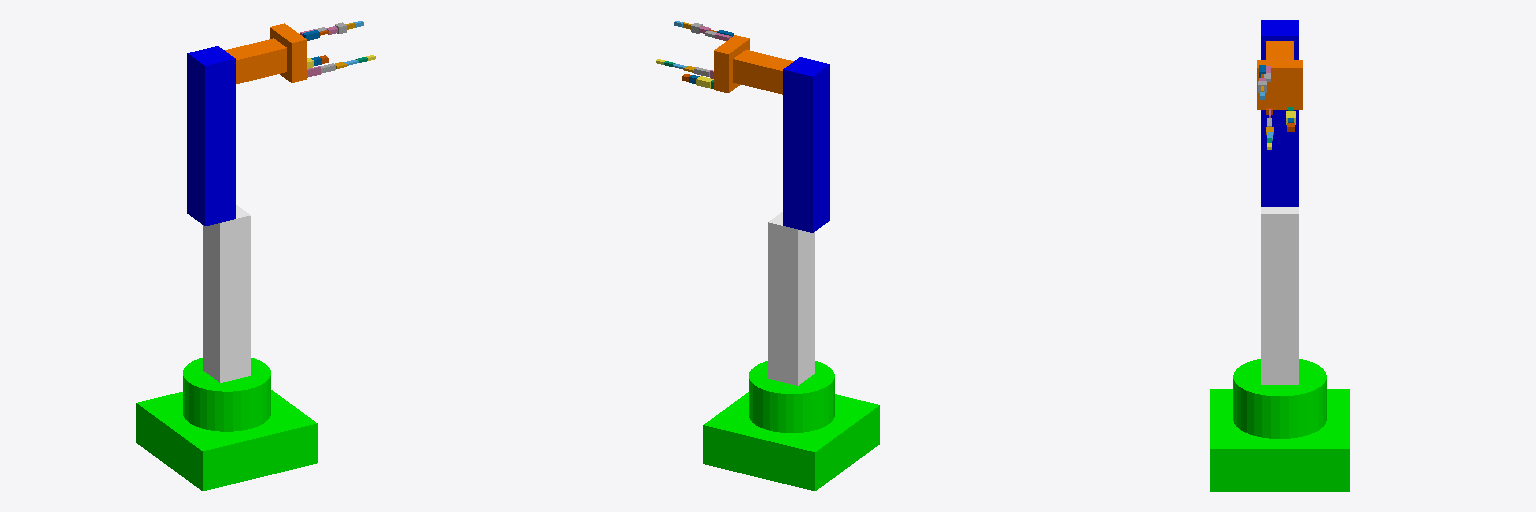
URDF robot description (robot):
<?xml version='1.0' encoding='utf-8'?>
<robot name="robot">
  <link name="base_link">
    <visual>
      <origin xyz="0 0 0.125" rpy="0 0 0" />
      <geometry>
        <box size="0.75 0.75 0.25" />
      </geometry>
      <material name="green" />
    </visual>
    <visual>
      <origin xyz="0 0 0.375" rpy="0 0 0" />
      <geometry>
        <cylinder length="0.25" radius="0.25" />
      </geometry>
      <material name="green">
        <color rgba="0 1 0 1" />
      </material>
    </visual>
    <collision>
      <geometry>
        <box size="0.75 0.75 0.5" />
      </geometry>
    </collision>
    <inertial>
      <mass value="0.5" />
      <inertia ixx="0.034" ixy="0.0" ixz="0.0" iyy="0.034" iyz="0.0" izz="0.034" />
    </inertial>
  </link>
  <link name="support_link">
    <visual>
      <origin xyz="0 0 0.5" rpy="0 0 0" />
      <geometry>
        <box size="0.2 0.2 1" />
      </geometry>
      <material name="white">
        <color rgba="1 1 1 1" />
      </material>
    </visual>
    <collision>
      <geometry>
        <box size="0.2 0.2 1" />
      </geometry>
    </collision>
    <inertial>
      <mass value="0.1" />
      <inertia ixx="0.01" ixy="0.0" ixz="0.0" iyy="0.01" iyz="0.0" izz="0.01" />
    </inertial>
  </link>
  <joint name="support_joint" type="continuous">
    <origin xyz="0 0 0.5" rpy="0 0 0" />
    <parent link="base_link" />
    <child link="support_link" />
    <axis xyz="0 0 1" />
  </joint>
  <link name="arm_link">
    <visual>
      <origin xyz="0 0 0.5" rpy="0 0 0" />
      <geometry>
        <box size="0.2 0.2 1" />
      </geometry>
      <material name="blue">
        <color rgba="0 0 1 1" />
      </material>
    </visual>
    <collision>
      <geometry>
        <box size="0.2 0.2 1" />
      </geometry>
    </collision>
    <inertial>
      <mass value="0.1" />
      <inertia ixx="0.01" ixy="0.0" ixz="0.0" iyy="0.01" iyz="0.0" izz="0.01" />
    </inertial>
  </link>
  <joint name="arm_joint" type="revolute">
    <origin xyz="-0.1 0 1" rpy="0 0 0" />
    <parent link="support_link" />
    <child link="arm_link" />
    <axis xyz="0 1 0" />
    <limit lower="-3.14" upper="3.14" effort="1.0" velocity="1.0" />
  </joint>
  <link name="wrist_link">
    <visual>
      <origin xyz="0 0 0.25" rpy="0 0 0" />
      <geometry>
        <box size="0.15 0.15 0.5" />
      </geometry>
      <material name="orange">
        <color rgba="1 0.5 0 1" />
      </material>
    </visual>
    <collision>
      <geometry>
        <box size="0.15 0.15 0.5" />
      </geometry>
    </collision>
    <inertial>
      <mass value="0.1" />
      <inertia ixx="0.01" ixy="0.0" ixz="0.0" iyy="0.01" iyz="0.0" izz="0.01" />
    </inertial>
  </link>
  <joint name="wrist_joint" type="fixed">
    <origin xyz="0 0 0.9" rpy="0 1.571 0" />
    <parent link="arm_link" />
    <child link="wrist_link" />
  </joint>
  <link name="palm_link">
    <visual>
      <origin xyz="0 0 0.05" rpy="0 0 0" />
      <geometry>
        <box size="0.25 0.25 0.1" />
      </geometry>
      <material name="orange" />
    </visual>
    <collision>
      <geometry>
        <box size="0.25 0.25 0.1" />
      </geometry>
    </collision>
    <inertial>
      <mass value="0.1" />
      <inertia ixx="0.01" ixy="0.0" ixz="0.0" iyy="0.01" iyz="0.0" izz="0.01" />
    </inertial>
  </link>
  <joint name="palm_joint" type="fixed">
    <origin xyz="0 0 0.45" rpy="0 0 0" />
    <parent link="wrist_link" />
    <child link="palm_link" />
  </joint>
  <link name="finger_link_0_0">
    <visual>
      <origin xyz="0 0 0.0155" rpy="0 0 0" />
      <geometry>
        <box size="0.03 0.037 0.031" />
      </geometry>
    </visual>
    <collision>
      <geometry>
        <box size="0.03 0.037 0.031" />
      </geometry>
    </collision>
    <inertial>
      <mass value="0.01" />
      <inertia ixx="0.0" iyy="0.0" izz="0.0" ixy="0" ixz="0" iyz="0" />
    </inertial>
  </link>
  <joint name="finger_joint_palm_link_to_finger_link_0_0" type="revolute">
    <origin xyz="0.125 -0.054 0.1" rpy="0 0 0" />
    <parent link="palm_link" />
    <child link="finger_link_0_0" />
    <axis xyz="0.0 1.0 0.0" />
    <limit lower="-3.142" upper="3.142" effort="10" velocity="10" />
  </joint>
  <link name="finger_link_0_1">
    <visual>
      <origin xyz="0 0 0.0475" rpy="0 0 0" />
      <geometry>
        <box size="0.048 0.012 0.095" />
      </geometry>
    </visual>
    <collision>
      <geometry>
        <box size="0.048 0.012 0.095" />
      </geometry>
    </collision>
    <inertial>
      <mass value="0.016" />
      <inertia ixx="0.0" iyy="0.0" izz="0.0" ixy="0" ixz="0" iyz="0" />
    </inertial>
  </link>
  <joint name="finger_joint_finger_link_0_0_to_finger_link_0_1" type="revolute">
    <origin xyz="0.0 0.0 0.031" rpy="0 0 0" />
    <parent link="finger_link_0_0" />
    <child link="finger_link_0_1" />
    <axis xyz="0.0 1.0 0.0" />
    <limit lower="-3.142" upper="3.142" effort="10" velocity="10" />
  </joint>
  <link name="finger_link_0_2">
    <visual>
      <origin xyz="0 0 0.0495" rpy="0 0 0" />
      <geometry>
        <box size="0.032 0.028 0.099" />
      </geometry>
    </visual>
    <collision>
      <geometry>
        <box size="0.032 0.028 0.099" />
      </geometry>
    </collision>
    <inertial>
      <mass value="0.027" />
      <inertia ixx="0.0" iyy="0.0" izz="0.0" ixy="0" ixz="0" iyz="0" />
    </inertial>
  </link>
  <joint name="finger_joint_finger_link_0_1_to_finger_link_0_2" type="revolute">
    <origin xyz="0.0 0.0 0.095" rpy="0 0 0" />
    <parent link="finger_link_0_1" />
    <child link="finger_link_0_2" />
    <axis xyz="0.0 1.0 0.0" />
    <limit lower="-3.142" upper="3.142" effort="10" velocity="10" />
  </joint>
  <link name="finger_link_0_3">
    <visual>
      <origin xyz="0 0 0.0315" rpy="0 0 0" />
      <geometry>
        <box size="0.015 0.045 0.063" />
      </geometry>
    </visual>
    <collision>
      <geometry>
        <box size="0.015 0.045 0.063" />
      </geometry>
    </collision>
    <inertial>
      <mass value="0.013" />
      <inertia ixx="0.0" iyy="0.0" izz="0.0" ixy="0" ixz="0" iyz="0" />
    </inertial>
  </link>
  <joint name="finger_joint_finger_link_0_2_to_finger_link_0_3" type="revolute">
    <origin xyz="0.0 0.0 0.099" rpy="0 0 0" />
    <parent link="finger_link_0_2" />
    <child link="finger_link_0_3" />
    <axis xyz="0.0 1.0 0.0" />
    <limit lower="-3.142" upper="3.142" effort="10" velocity="10" />
  </joint>
  <link name="finger_link_0_4">
    <visual>
      <origin xyz="0 0 0.041" rpy="0 0 0" />
      <geometry>
        <box size="0.012 0.029 0.082" />
      </geometry>
    </visual>
    <collision>
      <geometry>
        <box size="0.012 0.029 0.082" />
      </geometry>
    </collision>
    <inertial>
      <mass value="0.009" />
      <inertia ixx="0.0" iyy="0.0" izz="0.0" ixy="0" ixz="0" iyz="0" />
    </inertial>
  </link>
  <joint name="finger_joint_finger_link_0_3_to_finger_link_0_4" type="revolute">
    <origin xyz="0.0 0.0 0.063" rpy="0 0 0" />
    <parent link="finger_link_0_3" />
    <child link="finger_link_0_4" />
    <axis xyz="0.0 1.0 0.0" />
    <limit lower="-3.142" upper="3.142" effort="10" velocity="10" />
  </joint>
  <link name="finger_link_0_5">
    <visual>
      <origin xyz="0 0 0.0305" rpy="0 0 0" />
      <geometry>
        <box size="0.018 0.026 0.061" />
      </geometry>
    </visual>
    <collision>
      <geometry>
        <box size="0.018 0.026 0.061" />
      </geometry>
    </collision>
    <inertial>
      <mass value="0.009" />
      <inertia ixx="0.0" iyy="0.0" izz="0.0" ixy="0" ixz="0" iyz="0" />
    </inertial>
  </link>
  <joint name="finger_joint_finger_link_0_4_to_finger_link_0_5" type="revolute">
    <origin xyz="0.0 0.0 0.082" rpy="0 0 0" />
    <parent link="finger_link_0_4" />
    <child link="finger_link_0_5" />
    <axis xyz="0.0 1.0 0.0" />
    <limit lower="-3.142" upper="3.142" effort="10" velocity="10" />
  </joint>
  <link name="finger_link_0_6">
    <visual>
      <origin xyz="0 0 0.0255" rpy="0 0 0" />
      <geometry>
        <box size="0.018 0.026 0.051" />
      </geometry>
    </visual>
    <collision>
      <geometry>
        <box size="0.018 0.026 0.051" />
      </geometry>
    </collision>
    <inertial>
      <mass value="0.007" />
      <inertia ixx="0.0" iyy="0.0" izz="0.0" ixy="0" ixz="0" iyz="0" />
    </inertial>
  </link>
  <joint name="finger_joint_finger_link_0_5_to_finger_link_0_6" type="revolute">
    <origin xyz="0.0 0.0 0.061" rpy="0 0 0" />
    <parent link="finger_link_0_5" />
    <child link="finger_link_0_6" />
    <axis xyz="0.0 1.0 0.0" />
    <limit lower="-3.142" upper="3.142" effort="10" velocity="10" />
  </joint>
  <link name="finger_link_1_0">
    <visual>
      <origin xyz="0 0 0.0465" rpy="0 0 0" />
      <geometry>
        <box size="0.038 0.033 0.093" />
      </geometry>
    </visual>
    <collision>
      <geometry>
        <box size="0.038 0.033 0.093" />
      </geometry>
    </collision>
    <inertial>
      <mass value="0.035" />
      <inertia ixx="0.0" iyy="0.0" izz="0.0" ixy="0" ixz="0" iyz="0" />
    </inertial>
  </link>
  <joint name="finger_joint_palm_link_to_finger_link_1_0" type="revolute">
    <origin xyz="-0.125 -0.093 0.1" rpy="0 0 0" />
    <parent link="palm_link" />
    <child link="finger_link_1_0" />
    <axis xyz="0.0 1.0 0.0" />
    <limit lower="-3.142" upper="3.142" effort="10" velocity="10" />
  </joint>
  <link name="finger_link_1_1">
    <visual>
      <origin xyz="0 0 0.03" rpy="0 0 0" />
      <geometry>
        <box size="0.015 0.021 0.06" />
      </geometry>
    </visual>
    <collision>
      <geometry>
        <box size="0.015 0.021 0.06" />
      </geometry>
    </collision>
    <inertial>
      <mass value="0.006" />
      <inertia ixx="0.0" iyy="0.0" izz="0.0" ixy="0" ixz="0" iyz="0" />
    </inertial>
  </link>
  <joint name="finger_joint_finger_link_1_0_to_finger_link_1_1" type="revolute">
    <origin xyz="0.0 0.0 0.093" rpy="0 0 0" />
    <parent link="finger_link_1_0" />
    <child link="finger_link_1_1" />
    <axis xyz="0.0 1.0 0.0" />
    <limit lower="-3.142" upper="3.142" effort="10" velocity="10" />
  </joint>
  <link name="finger_link_1_2">
    <visual>
      <origin xyz="0 0 0.03" rpy="0 0 0" />
      <geometry>
        <box size="0.027 0.038 0.06" />
      </geometry>
    </visual>
    <collision>
      <geometry>
        <box size="0.027 0.038 0.06" />
      </geometry>
    </collision>
    <inertial>
      <mass value="0.018" />
      <inertia ixx="0.0" iyy="0.0" izz="0.0" ixy="0" ixz="0" iyz="0" />
    </inertial>
  </link>
  <joint name="finger_joint_finger_link_1_1_to_finger_link_1_2" type="revolute">
    <origin xyz="0.0 0.0 0.06" rpy="0 0 0" />
    <parent link="finger_link_1_1" />
    <child link="finger_link_1_2" />
    <axis xyz="0.0 1.0 0.0" />
    <limit lower="-3.142" upper="3.142" effort="10" velocity="10" />
  </joint>
  <link name="finger_link_1_3">
    <visual>
      <origin xyz="0 0 0.0255" rpy="0 0 0" />
      <geometry>
        <box size="0.044 0.048 0.051" />
      </geometry>
    </visual>
    <collision>
      <geometry>
        <box size="0.044 0.048 0.051" />
      </geometry>
    </collision>
    <inertial>
      <mass value="0.032" />
      <inertia ixx="0.0" iyy="0.0" izz="0.0" ixy="0" ixz="0" iyz="0" />
    </inertial>
  </link>
  <joint name="finger_joint_finger_link_1_2_to_finger_link_1_3" type="revolute">
    <origin xyz="0.0 0.0 0.06" rpy="0 0 0" />
    <parent link="finger_link_1_2" />
    <child link="finger_link_1_3" />
    <axis xyz="0.0 1.0 0.0" />
    <limit lower="-3.142" upper="3.142" effort="10" velocity="10" />
  </joint>
  <link name="finger_link_1_4">
    <visual>
      <origin xyz="0 0 0.032" rpy="0 0 0" />
      <geometry>
        <box size="0.029 0.015 0.064" />
      </geometry>
    </visual>
    <collision>
      <geometry>
        <box size="0.029 0.015 0.064" />
      </geometry>
    </collision>
    <inertial>
      <mass value="0.008" />
      <inertia ixx="0.0" iyy="0.0" izz="0.0" ixy="0" ixz="0" iyz="0" />
    </inertial>
  </link>
  <joint name="finger_joint_finger_link_1_3_to_finger_link_1_4" type="revolute">
    <origin xyz="0.0 0.0 0.051" rpy="0 0 0" />
    <parent link="finger_link_1_3" />
    <child link="finger_link_1_4" />
    <axis xyz="0.0 1.0 0.0" />
    <limit lower="-3.142" upper="3.142" effort="10" velocity="10" />
  </joint>
  <link name="finger_link_1_5">
    <visual>
      <origin xyz="0 0 0.0275" rpy="0 0 0" />
      <geometry>
        <box size="0.024 0.022 0.055" />
      </geometry>
    </visual>
    <collision>
      <geometry>
        <box size="0.024 0.022 0.055" />
      </geometry>
    </collision>
    <inertial>
      <mass value="0.009" />
      <inertia ixx="0.0" iyy="0.0" izz="0.0" ixy="0" ixz="0" iyz="0" />
    </inertial>
  </link>
  <joint name="finger_joint_finger_link_1_4_to_finger_link_1_5" type="revolute">
    <origin xyz="0.0 0.0 0.064" rpy="0 0 0" />
    <parent link="finger_link_1_4" />
    <child link="finger_link_1_5" />
    <axis xyz="0.0 1.0 0.0" />
    <limit lower="-3.142" upper="3.142" effort="10" velocity="10" />
  </joint>
  <link name="finger_link_2_0">
    <visual>
      <origin xyz="0 0 0.023" rpy="0 0 0" />
      <geometry>
        <box size="0.045 0.029 0.046" />
      </geometry>
    </visual>
    <collision>
      <geometry>
        <box size="0.045 0.029 0.046" />
      </geometry>
    </collision>
    <inertial>
      <mass value="0.018" />
      <inertia ixx="0.0" iyy="0.0" izz="0.0" ixy="0" ixz="0" iyz="0" />
    </inertial>
  </link>
  <joint name="finger_joint_palm_link_to_finger_link_2_0" type="revolute">
    <origin xyz="0.125 0.059 0.1" rpy="0 0 0" />
    <parent link="palm_link" />
    <child link="finger_link_2_0" />
    <axis xyz="0.0 1.0 0.0" />
    <limit lower="-3.142" upper="3.142" effort="10" velocity="10" />
  </joint>
  <link name="finger_link_2_1">
    <visual>
      <origin xyz="0 0 0.047" rpy="0 0 0" />
      <geometry>
        <box size="0.04 0.049 0.094" />
      </geometry>
    </visual>
    <collision>
      <geometry>
        <box size="0.04 0.049 0.094" />
      </geometry>
    </collision>
    <inertial>
      <mass value="0.055" />
      <inertia ixx="0.0" iyy="0.0" izz="0.0" ixy="0" ixz="0" iyz="0" />
    </inertial>
  </link>
  <joint name="finger_joint_finger_link_2_0_to_finger_link_2_1" type="revolute">
    <origin xyz="0.0 0.0 0.046" rpy="0 0 0" />
    <parent link="finger_link_2_0" />
    <child link="finger_link_2_1" />
    <axis xyz="0.0 1.0 0.0" />
    <limit lower="-3.142" upper="3.142" effort="10" velocity="10" />
  </joint>
  <link name="finger_link_2_2">
    <visual>
      <origin xyz="0 0 0.0265" rpy="0 0 0" />
      <geometry>
        <box size="0.039 0.033 0.053" />
      </geometry>
    </visual>
    <collision>
      <geometry>
        <box size="0.039 0.033 0.053" />
      </geometry>
    </collision>
    <inertial>
      <mass value="0.02" />
      <inertia ixx="0.0" iyy="0.0" izz="0.0" ixy="0" ixz="0" iyz="0" />
    </inertial>
  </link>
  <joint name="finger_joint_finger_link_2_1_to_finger_link_2_2" type="revolute">
    <origin xyz="0.0 0.0 0.094" rpy="0 0 0" />
    <parent link="finger_link_2_1" />
    <child link="finger_link_2_2" />
    <axis xyz="0.0 1.0 0.0" />
    <limit lower="-3.142" upper="3.142" effort="10" velocity="10" />
  </joint>
  <link name="finger_link_2_3">
    <visual>
      <origin xyz="0 0 0.022" rpy="0 0 0" />
      <geometry>
        <box size="0.03 0.039 0.044" />
      </geometry>
    </visual>
    <collision>
      <geometry>
        <box size="0.03 0.039 0.044" />
      </geometry>
    </collision>
    <inertial>
      <mass value="0.015" />
      <inertia ixx="0.0" iyy="0.0" izz="0.0" ixy="0" ixz="0" iyz="0" />
    </inertial>
  </link>
  <joint name="finger_joint_finger_link_2_2_to_finger_link_2_3" type="revolute">
    <origin xyz="0.0 0.0 0.053" rpy="0 0 0" />
    <parent link="finger_link_2_2" />
    <child link="finger_link_2_3" />
    <axis xyz="0.0 1.0 0.0" />
    <limit lower="-3.142" upper="3.142" effort="10" velocity="10" />
  </joint>
  <link name="finger_link_3_0">
    <visual>
      <origin xyz="0 0 0.0455" rpy="0 0 0" />
      <geometry>
        <box size="0.025 0.035 0.091" />
      </geometry>
    </visual>
    <collision>
      <geometry>
        <box size="0.025 0.035 0.091" />
      </geometry>
    </collision>
    <inertial>
      <mass value="0.024" />
      <inertia ixx="0.0" iyy="0.0" izz="0.0" ixy="0" ixz="0" iyz="0" />
    </inertial>
  </link>
  <joint name="finger_joint_palm_link_to_finger_link_3_0" type="revolute">
    <origin xyz="-0.125 -0.066 0.1" rpy="0 0 0" />
    <parent link="palm_link" />
    <child link="finger_link_3_0" />
    <axis xyz="0.0 1.0 0.0" />
    <limit lower="-3.142" upper="3.142" effort="10" velocity="10" />
  </joint>
  <link name="finger_link_3_1">
    <visual>
      <origin xyz="0 0 0.0335" rpy="0 0 0" />
      <geometry>
        <box size="0.019 0.039 0.067" />
      </geometry>
    </visual>
    <collision>
      <geometry>
        <box size="0.019 0.039 0.067" />
      </geometry>
    </collision>
    <inertial>
      <mass value="0.015" />
      <inertia ixx="0.0" iyy="0.0" izz="0.0" ixy="0" ixz="0" iyz="0" />
    </inertial>
  </link>
  <joint name="finger_joint_finger_link_3_0_to_finger_link_3_1" type="revolute">
    <origin xyz="0.0 0.0 0.091" rpy="0 0 0" />
    <parent link="finger_link_3_0" />
    <child link="finger_link_3_1" />
    <axis xyz="0.0 1.0 0.0" />
    <limit lower="-3.142" upper="3.142" effort="10" velocity="10" />
  </joint>
</robot>

--- Render facts (derived) ---
3 views of the same robot in one strip: view 1: azimuth 30°, elevation 25°; view 2: azimuth 150°, elevation 25°; view 3: azimuth 270°, elevation 25° (orthographic).
Model robot with 24 links and 23 joints (20 revolute, 1 continuous, 2 fixed), rooted at base_link, posed every joint at zero.
Visible links, largest first — view 1: base_link, arm_link, support_link, wrist_link, palm_link; view 2: base_link, arm_link, support_link, wrist_link, palm_link; view 3: base_link, support_link, arm_link, palm_link, wrist_link.
Link boxes in pixels (<box>): base_link: <box>136,358,317,490</box>; arm_link: <box>187,46,235,225</box>; support_link: <box>203,205,250,382</box>; wrist_link: <box>225,38,286,83</box>; palm_link: <box>270,23,306,82</box>; base_link: <box>703,361,879,490</box>; arm_link: <box>783,57,829,232</box>; support_link: <box>768,212,814,385</box>; wrist_link: <box>733,50,793,94</box>; palm_link: <box>714,35,749,92</box>; base_link: <box>1210,359,1349,491</box>; support_link: <box>1261,207,1298,384</box>; arm_link: <box>1261,20,1298,206</box>; palm_link: <box>1257,60,1302,109</box>; wrist_link: <box>1266,41,1293,59</box>.
Bounding box of the posed robot: 1.31 × 0.75 × 2.55 m (x, y, z).
Geometry: primitives only (box / cylinder / sphere), no mesh files.